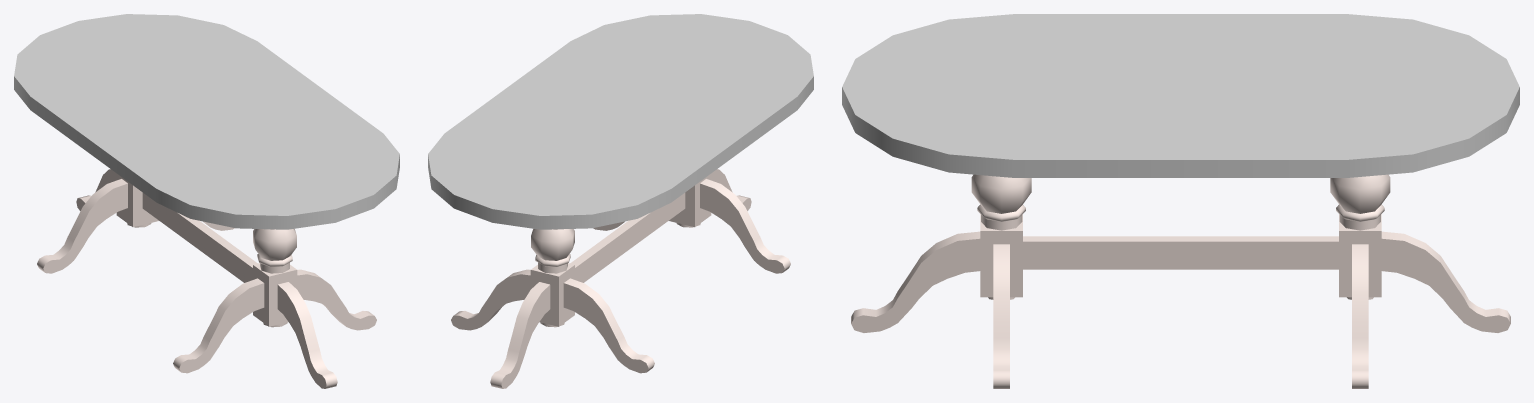
The model's file is Table4_K.fbx.
3 views of the same model, side by side, from view 1: azimuth 30°, elevation 25°; view 2: azimuth 150°, elevation 25°; view 3: azimuth 270°, elevation 25° (orthographic). The views are drawn at different scales.
Visible parts, largest first — view 1: polySurface1, polySurface9; view 2: polySurface1, polySurface9; view 3: polySurface1, polySurface9.
Boxes of the visible parts, bbox=[...] form: polySurface1: bbox=[14, 14, 399, 229]; polySurface9: bbox=[37, 169, 376, 388]; polySurface1: bbox=[428, 14, 813, 229]; polySurface9: bbox=[451, 169, 790, 388]; polySurface1: bbox=[842, 14, 1519, 177]; polySurface9: bbox=[851, 174, 1510, 388].
Size of the model in its own units: 78.45 by 60.8 by 154.
